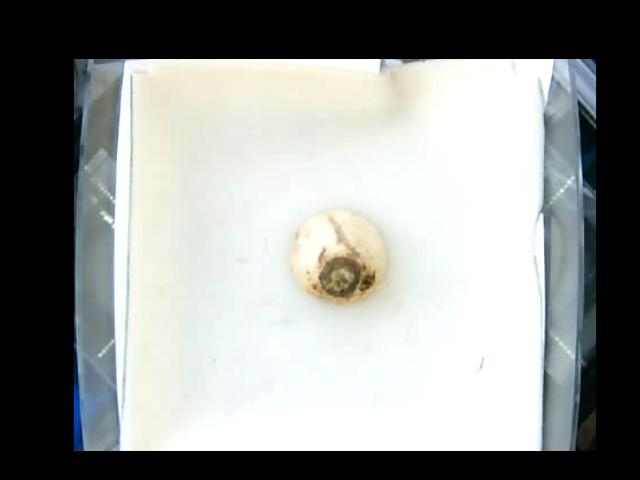Mooli: (292, 209, 386, 304)
